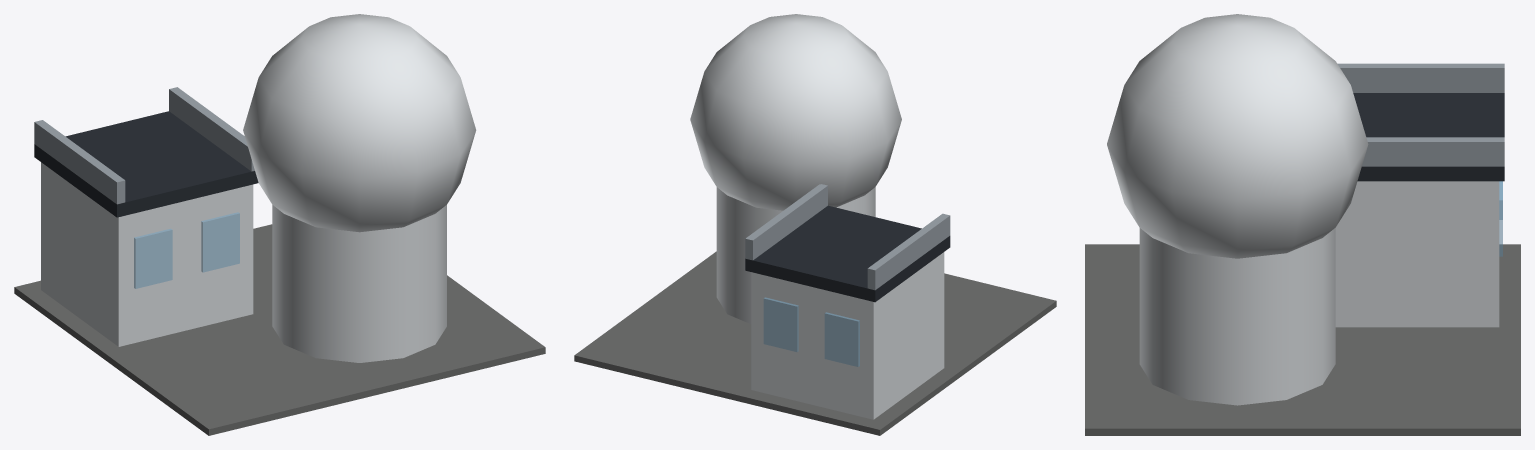
Rendered from bld_special_radar_a08.glb.
3 views of the same model, side by side, from view 1: azimuth 30°, elevation 25°; view 2: azimuth 150°, elevation 25°; view 3: azimuth 270°, elevation 25° (orthographic). The views are drawn at different scales.
Parts seen in each view (by area): view 1: body; view 2: body; view 3: body.
Boxes of the visible parts, left/top/right/bottom form: body: left=14, top=14, right=545, bottom=435; body: left=574, top=14, right=1056, bottom=435; body: left=1085, top=14, right=1520, bottom=435.
Size of what is drawn, in the model's own units: 8 by 7 by 8.
